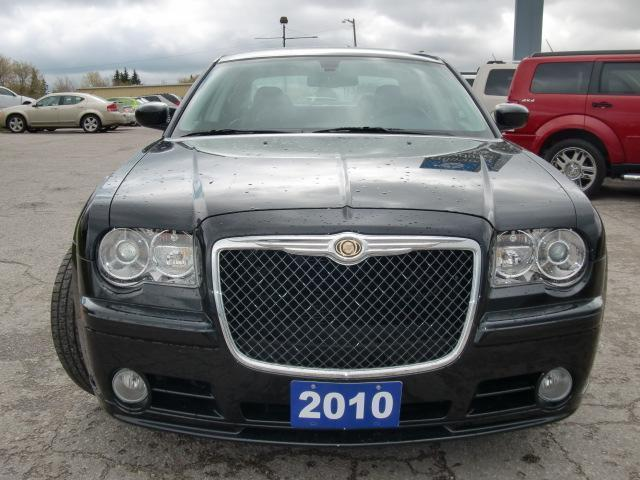Chrysler: (213, 228, 473, 269)
